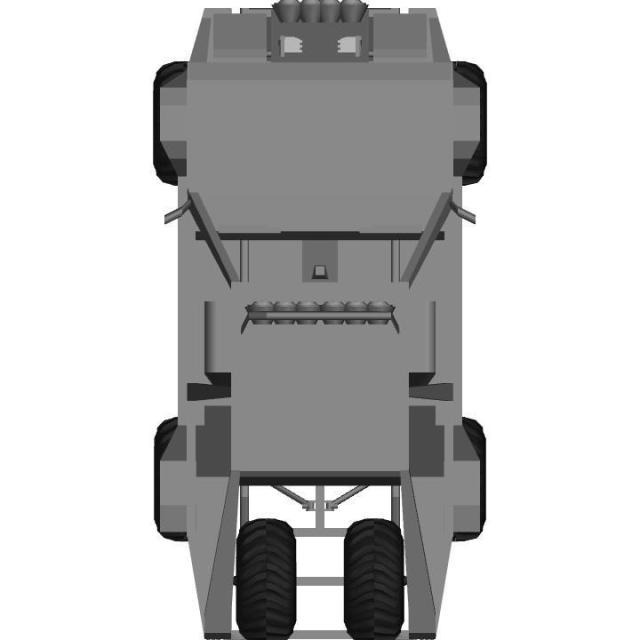Tanks: (150, 11, 515, 625)
